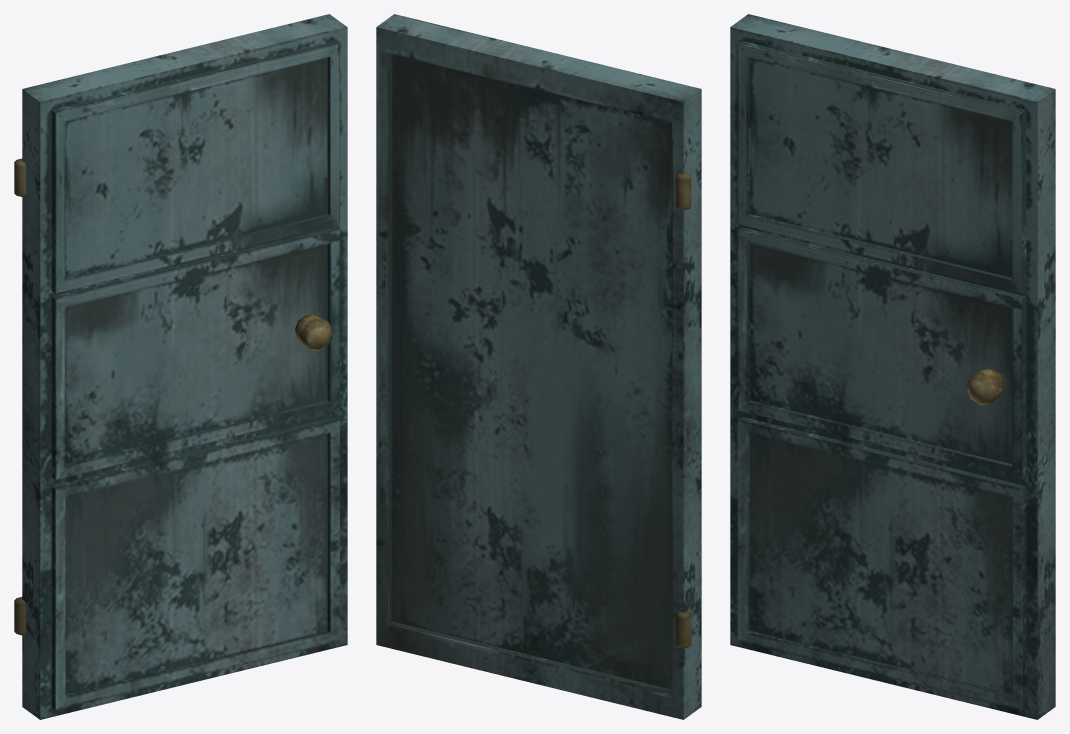
Rendered from door.glb.
The picture shows the model from 3 angles, left to right: view 1: azimuth 30°, elevation 25°; view 2: azimuth 150°, elevation 25°; view 3: azimuth 330°, elevation 25°; orthographic projection.
Parts seen in each view (by area): view 1: F0_Door, F0_door_hinge; view 2: F0_Door, F0_door_hinge; view 3: F0_Door.
Boxes of the visible parts, x1,y1,x2,y2 form: F0_Door: (22, 14, 347, 719); F0_door_hinge: (14, 158, 25, 635); F0_Door: (376, 14, 701, 719); F0_door_hinge: (676, 172, 691, 648); F0_Door: (730, 14, 1055, 719).
Size of what is drawn, in the model's own units: 1.47 by 2.75 by 0.3205.
1 material, 1 textured.
